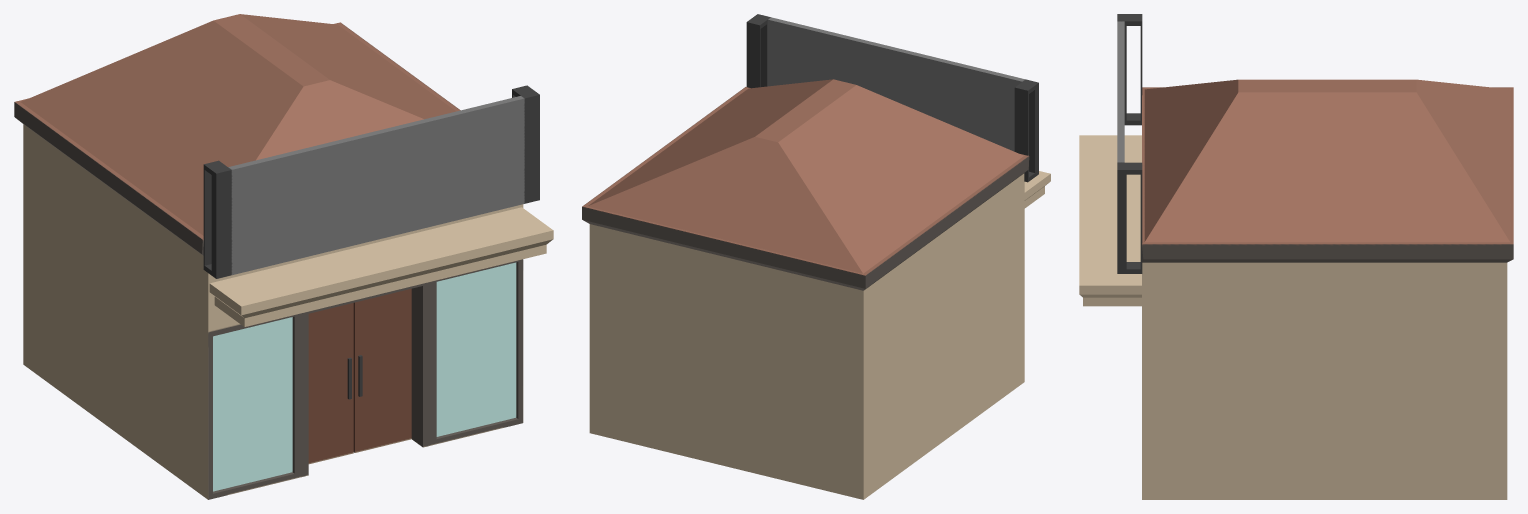
Rendered from BangunanGenericVar1.fbx.
The picture shows the model from 3 angles, left to right: view 1: azimuth 30°, elevation 25°; view 2: azimuth 150°, elevation 25°; view 3: azimuth 270°, elevation 25°; orthographic projection. The views are drawn at different scales.
Parts seen in each view (by area): view 1: Bangunan_Var1; view 2: Bangunan_Var1; view 3: Bangunan_Var1.
Part boxes in pixels (bbox=[...]): Bangunan_Var1: bbox=[14, 14, 553, 499]; Bangunan_Var1: bbox=[582, 14, 1050, 499]; Bangunan_Var1: bbox=[1079, 14, 1513, 499].
Size of the model in its own units: 300 by 301 by 350.
Materials: 1 (1 with a texture image).
